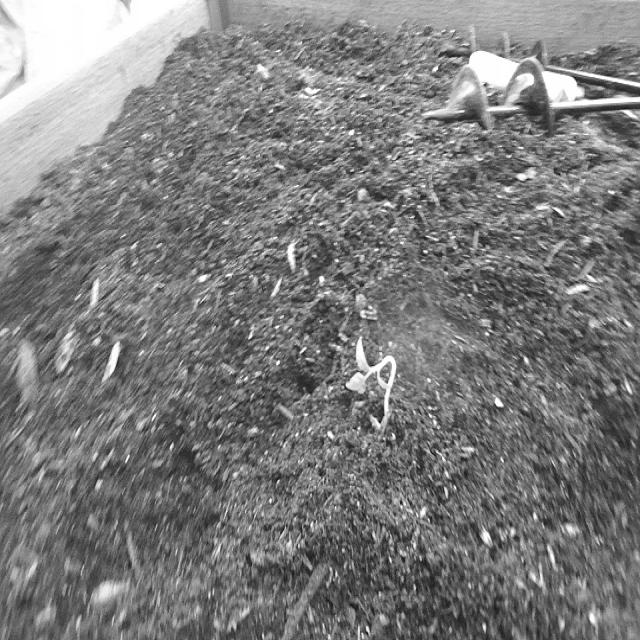Unhealthy: (344, 321, 408, 442)
